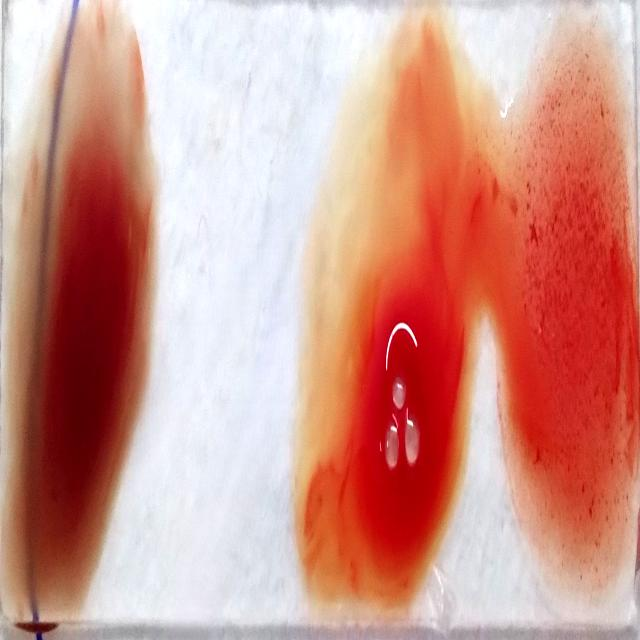D: (499, 51, 638, 615)
